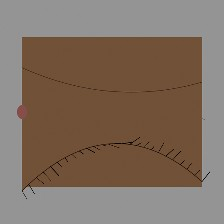corneal_ulcer: (95, 87, 144, 126)
